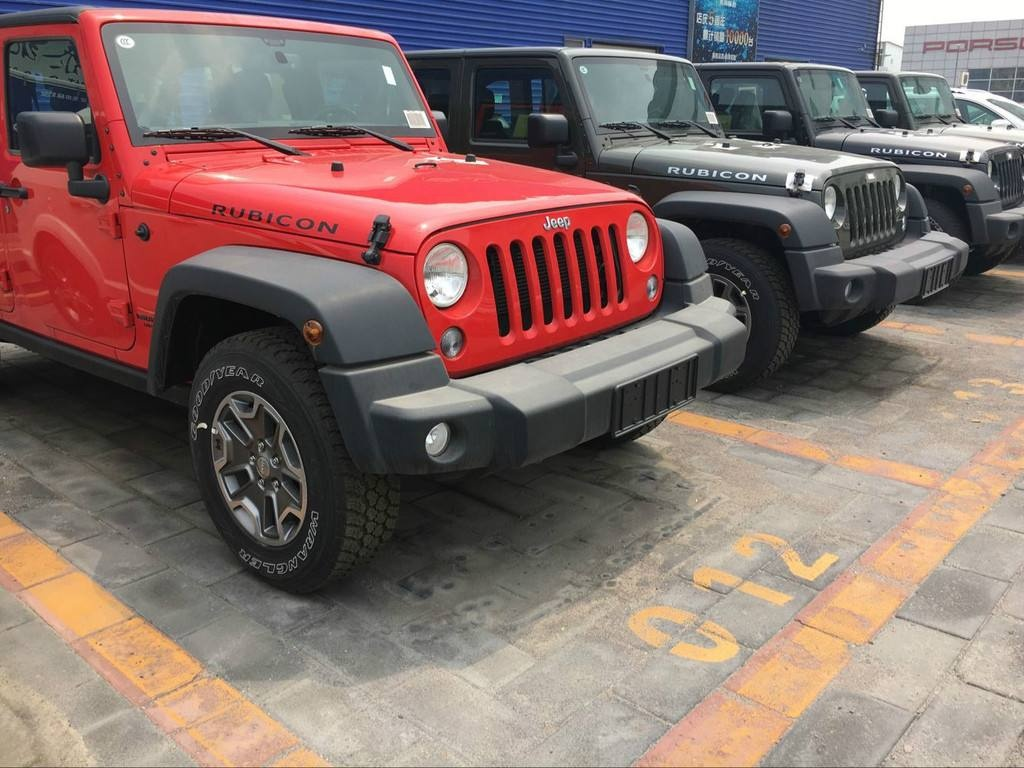jeep: (1, 6, 714, 571)
